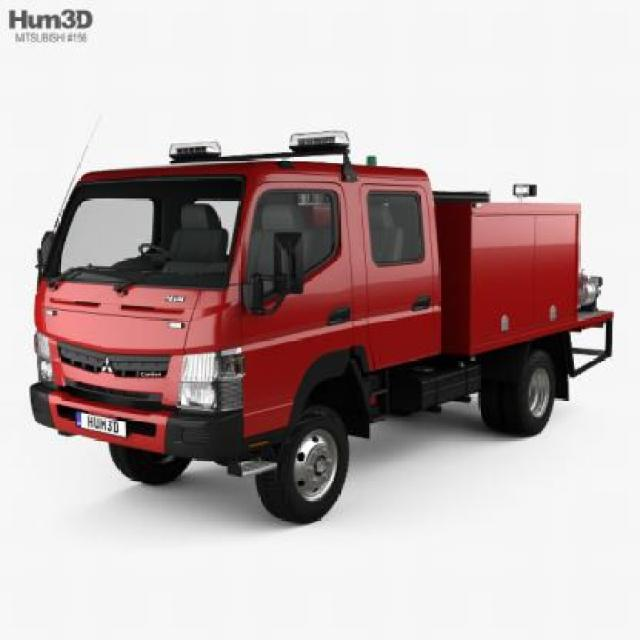truck: (27, 126, 613, 521)
